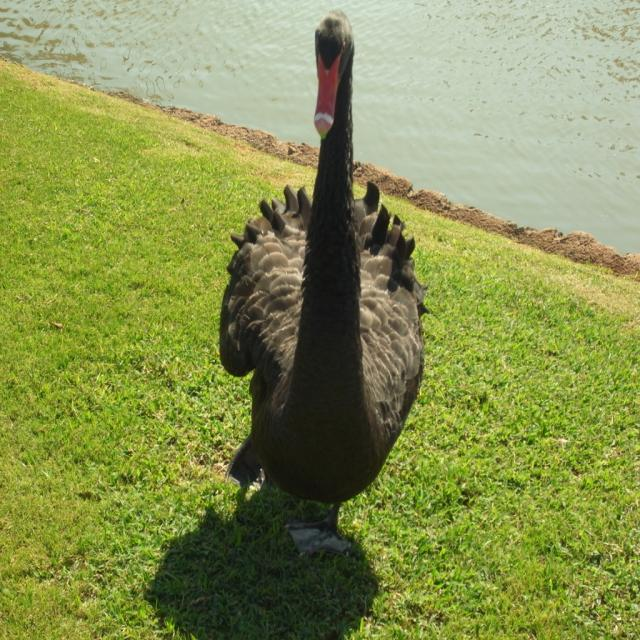bird: (210, 9, 433, 520)
